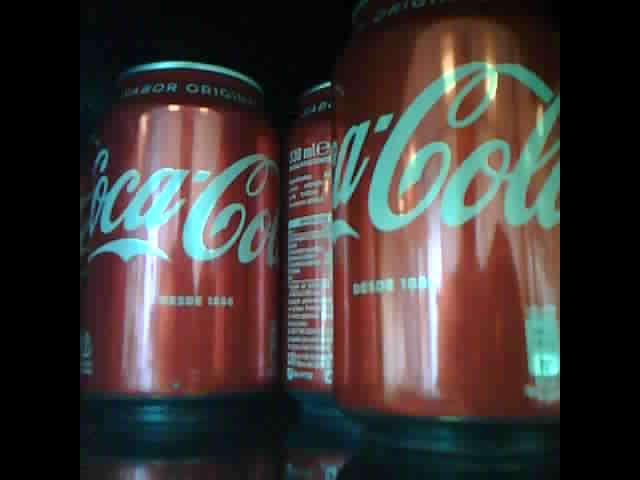coca cola: (335, 4, 560, 427), (88, 52, 285, 402), (281, 68, 335, 403)
